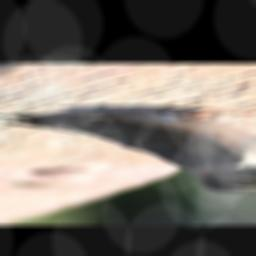Swallow: (1, 107, 256, 193)
